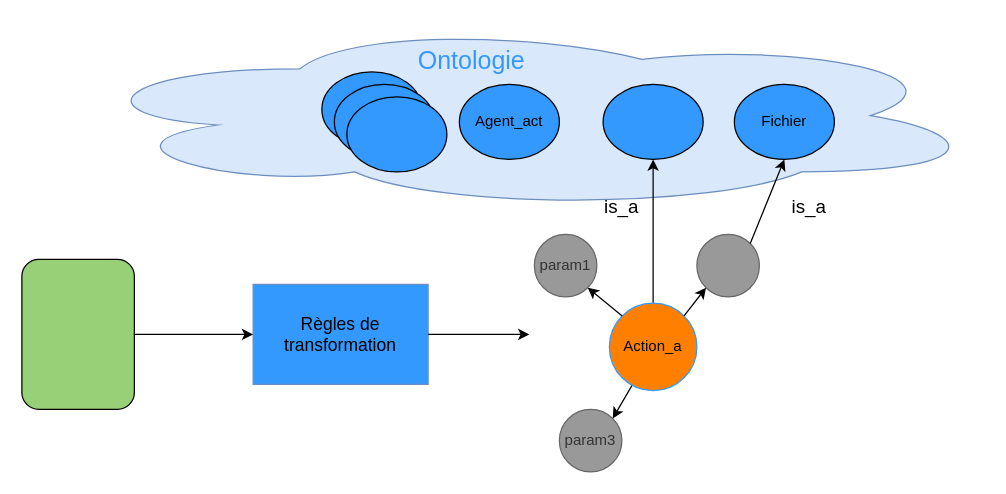
This 1006x494 diagram has some shape labels left out. The centre of each missing label's shape, as x and y in pixels:
"Action_a: param1 param2 param3" belongs at point (77, 333).
"param2" belongs at point (727, 265).
"User_act" belongs at point (652, 121).
